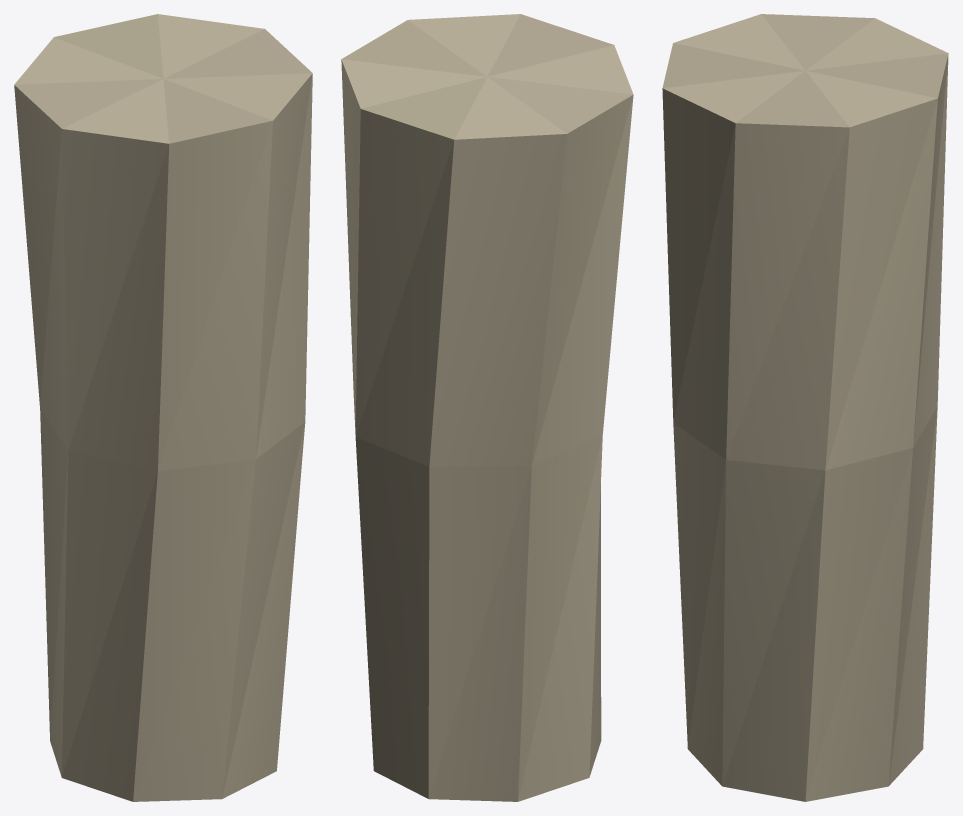
The model's file is upperarm.glb.
The picture shows the model from 3 angles, left to right: view 1: azimuth 30°, elevation 25°; view 2: azimuth 150°, elevation 25°; view 3: azimuth 270°, elevation 25°; orthographic projection.
Parts seen in each view (by area): view 1: fp_upperarm_solid; view 2: fp_upperarm_solid; view 3: fp_upperarm_solid.
Boxes of the visible parts, <box> form: fp_upperarm_solid: <box>14,14,312,801</box>; fp_upperarm_solid: <box>341,14,633,801</box>; fp_upperarm_solid: <box>662,14,948,801</box>.
Size of the model in its own units: 0.107 by 0.2828 by 0.107.
